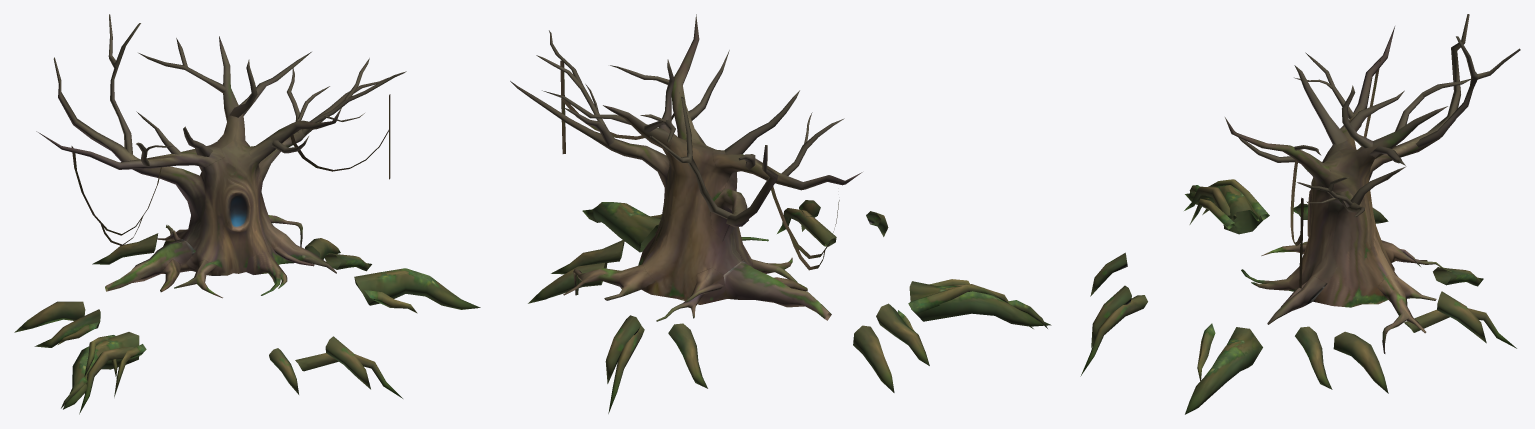
File: boss_shu.FBX
3 renders of one model, left to right at view 1: azimuth 30°, elevation 25°; view 2: azimuth 150°, elevation 25°; view 3: azimuth 270°, elevation 25°, orthographic. The views are drawn at different scales.
Visible parts, largest first — view 1: Object069; view 2: Object069; view 3: Object069.
Boxes of the visible parts, x1,y1,x2,y2 form: Object069: (14,14,480,414); Object069: (510,14,1051,413); Object069: (1080,14,1520,414).
Bounding box in the file's own units: 2445 × 1515 × 2059.
